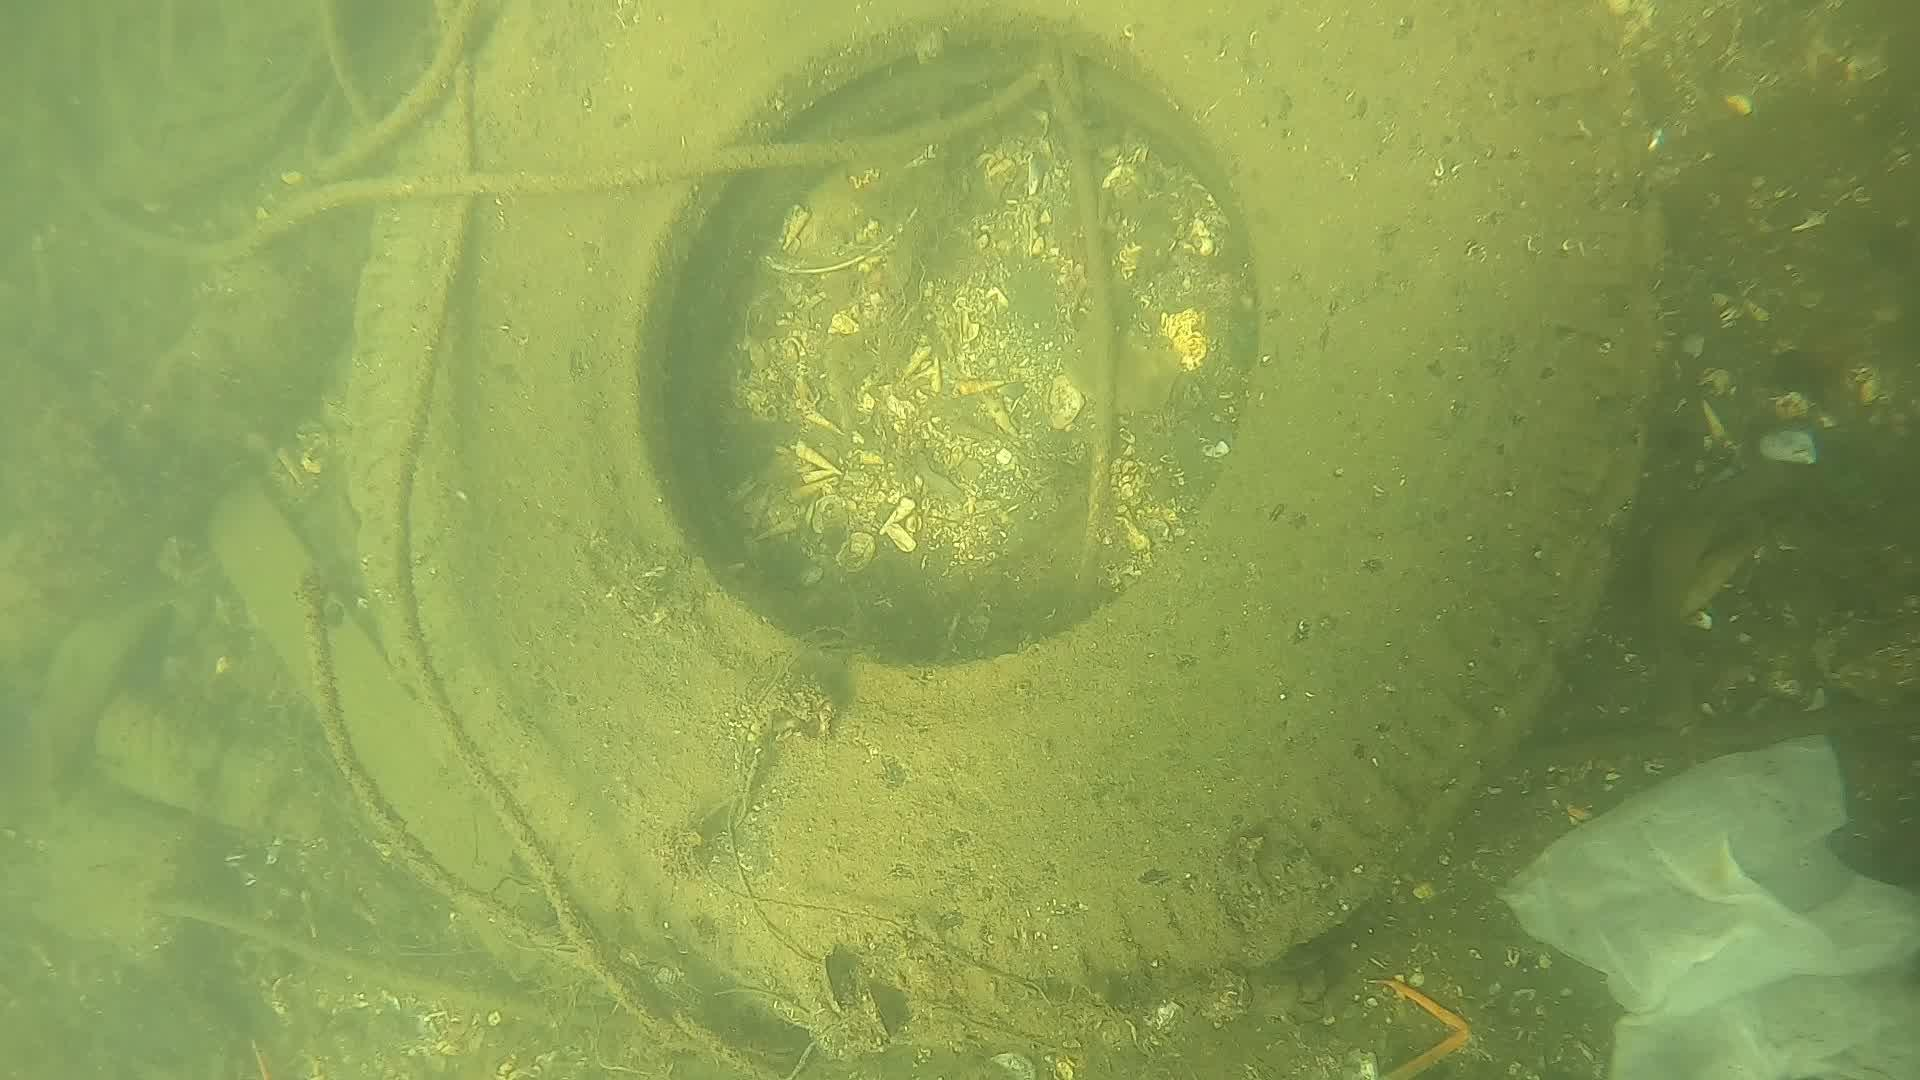tire: (342, 7, 1658, 1001)
